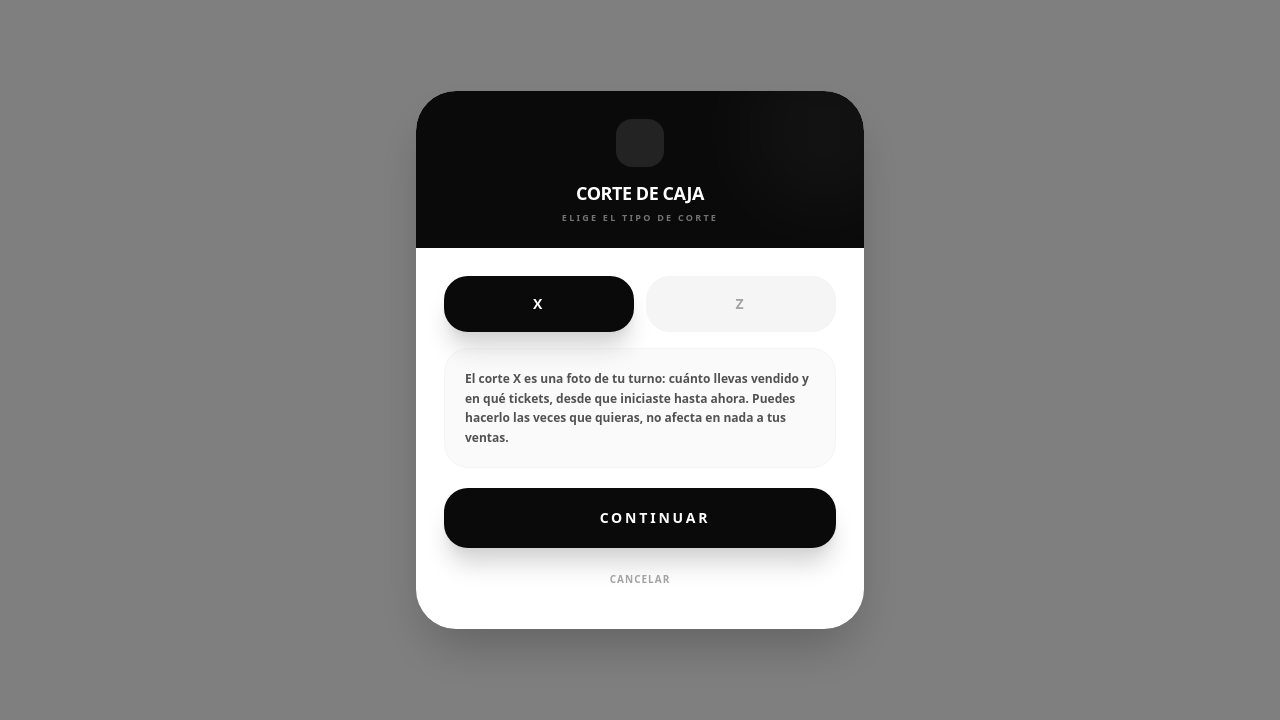
it: empleacortes · elegir tipo › al elegir Z pide confirmación explícita
Click the button "Z". click: (741, 304)
box: 646,276 -> 836,332
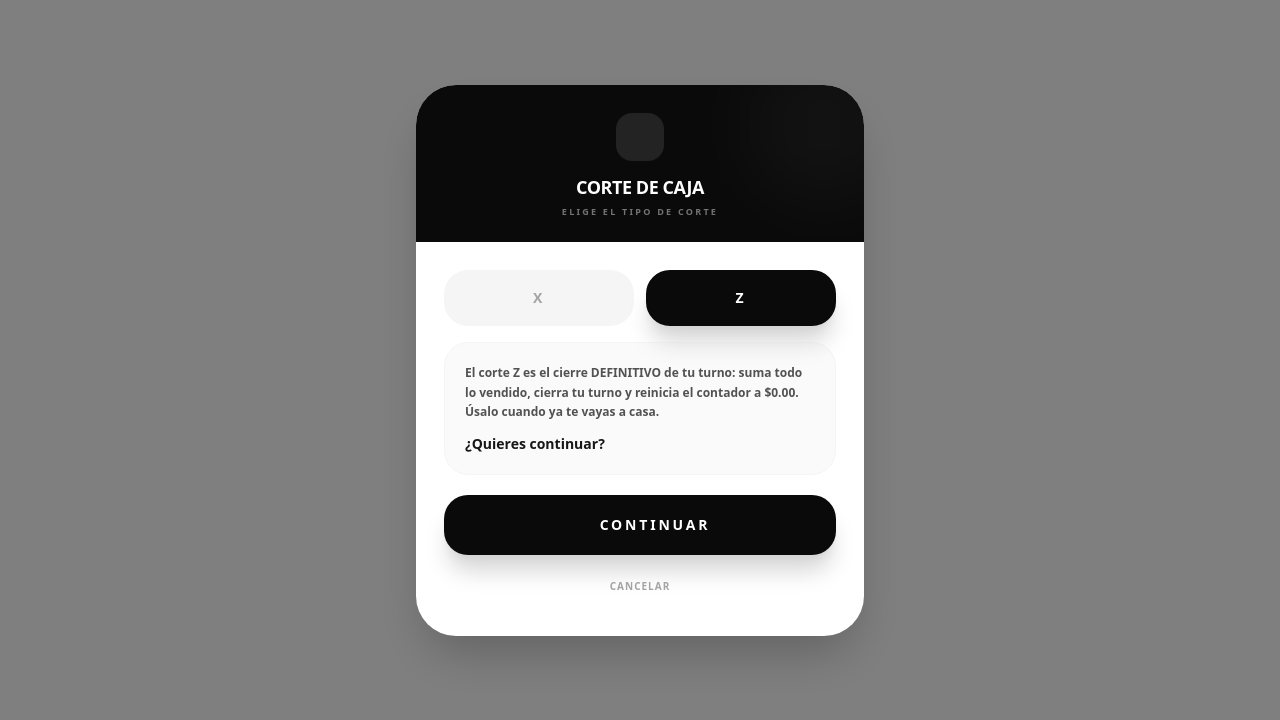
Expected: the text "cierre DEFINITIVO" is shown, 465,364 -> 802,420
Expected: the text "¿Quieres continuar?" is shown, 465,434 -> 605,452
